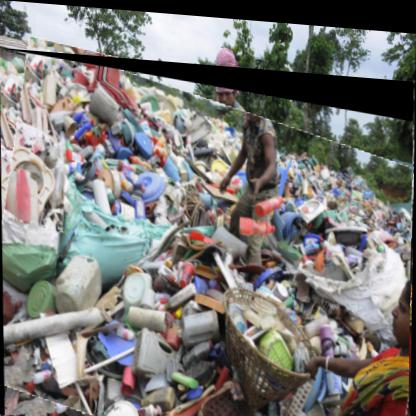Garbage: (1, 49, 416, 416)
